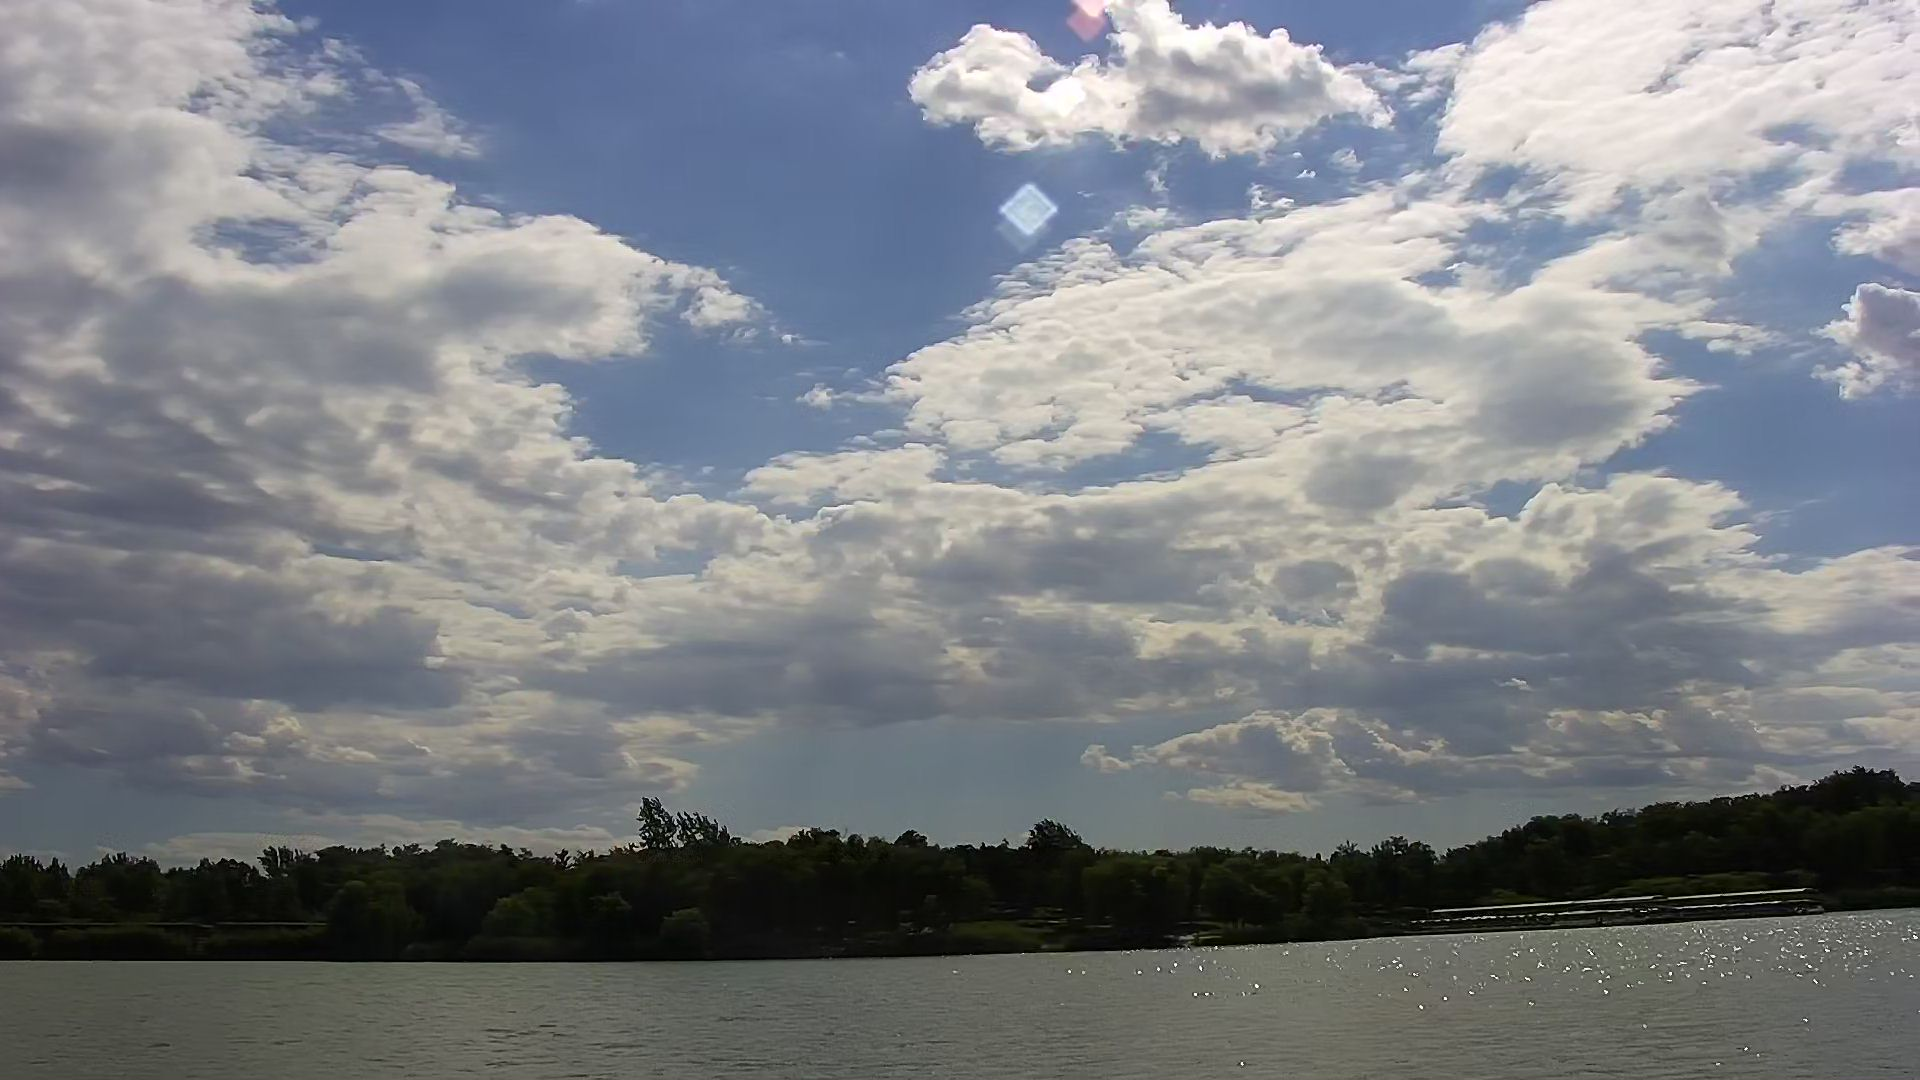harbor: (1391, 880, 1841, 938)
